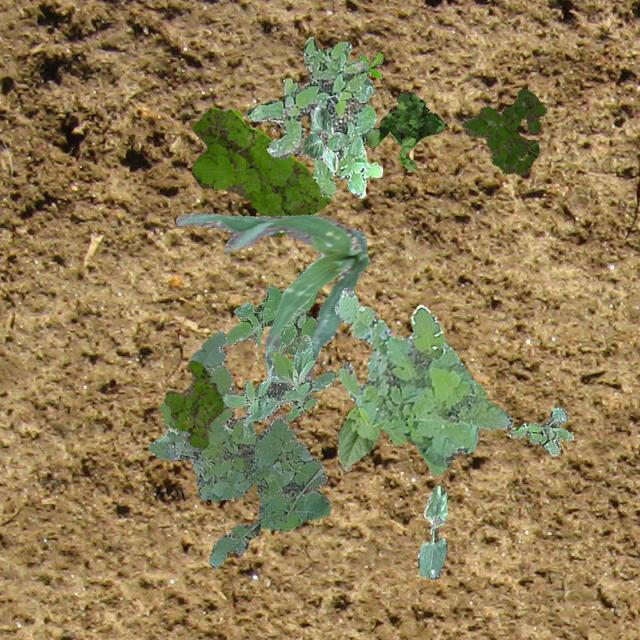crop: (174, 212, 368, 380), (416, 484, 446, 578), (336, 404, 378, 469), (300, 104, 336, 170), (280, 332, 300, 354)
weed: (148, 330, 330, 568), (333, 286, 512, 474), (246, 35, 382, 196), (190, 107, 330, 236), (222, 334, 336, 436), (460, 88, 546, 174), (364, 90, 446, 170), (225, 284, 316, 352), (164, 360, 222, 448), (508, 406, 572, 454), (358, 52, 382, 78)
